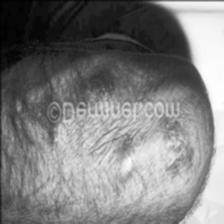Unclassified: (95, 116, 201, 186), (36, 128, 96, 162), (80, 68, 122, 98)
